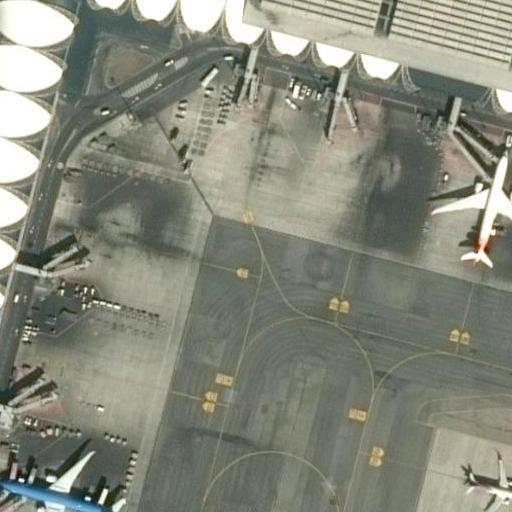Aircraft: (432, 142, 512, 271), (1, 443, 122, 512), (460, 453, 512, 512)
